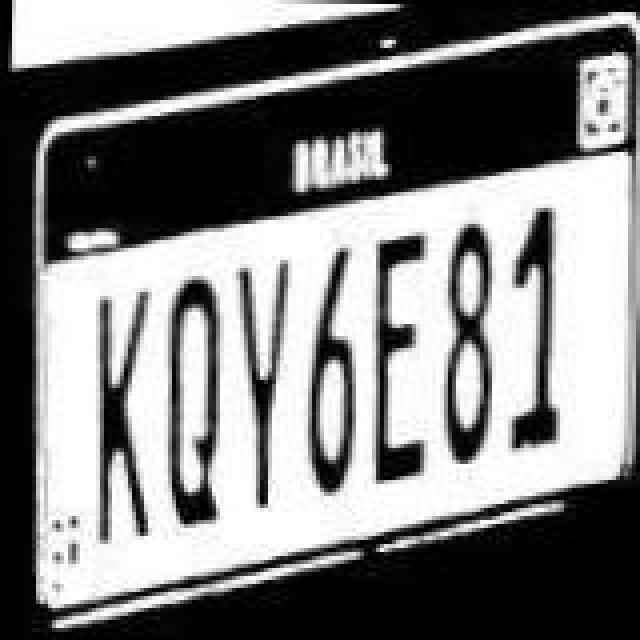1: (498, 196, 578, 460)
6: (296, 228, 360, 500)
8: (436, 218, 496, 466)
E: (356, 218, 436, 490)
K: (74, 282, 162, 542)
Q: (162, 256, 222, 536)
Y: (230, 238, 298, 510)
